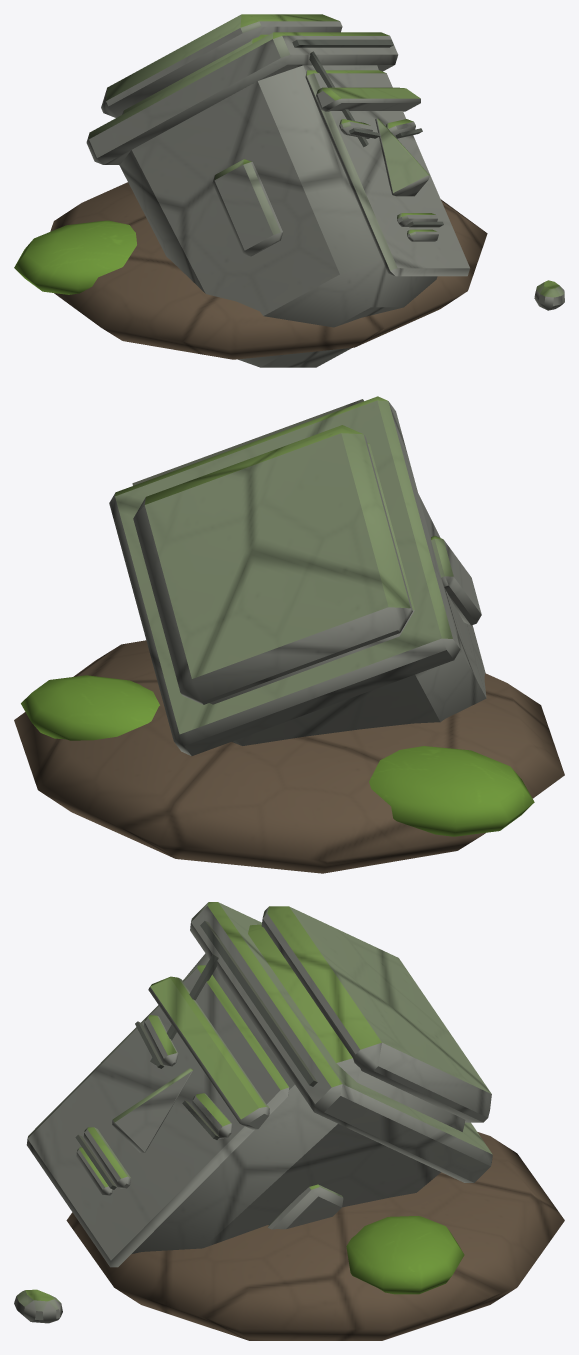
The model's file is stone_head_small.glb.
3 views of the same model, one above another, from view 1: azimuth 30°, elevation 25°; view 2: azimuth 150°, elevation 25°; view 3: azimuth 270°, elevation 25° (orthographic). The views are drawn at different scales.
Parts seen in each view (by area): view 1: stone_head_small; view 2: stone_head_small; view 3: stone_head_small.
Boxes of the visible parts, <box> form: stone_head_small: <box>14,14,564,367</box>; stone_head_small: <box>14,396,564,873</box>; stone_head_small: <box>14,902,564,1340</box>.
Bounding box in the file's own units: 1.56 × 1.26 × 1.59.
Materials: 4 (4 with a texture image).
